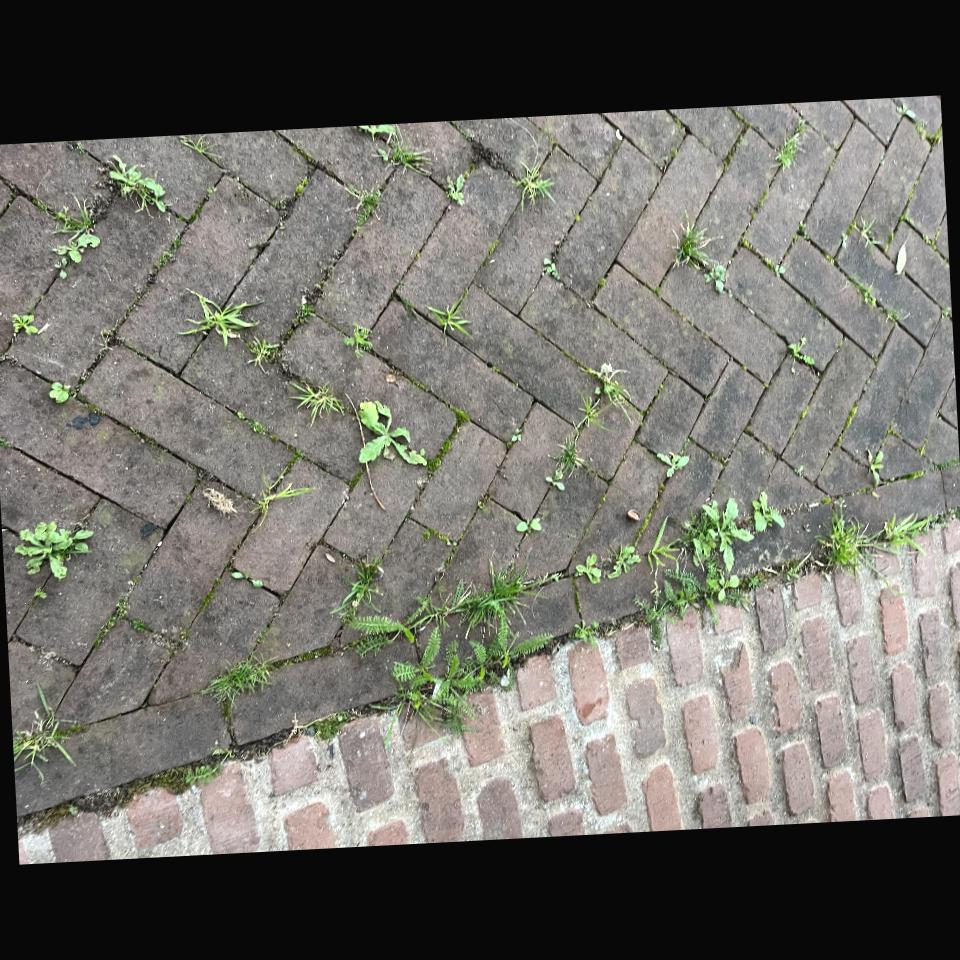weed: (757, 527, 868, 700), (690, 540, 782, 728), (618, 289, 698, 425), (490, 442, 616, 526), (691, 315, 749, 439), (528, 646, 597, 715), (633, 198, 702, 256), (250, 643, 300, 716), (508, 727, 551, 783), (641, 143, 680, 199), (349, 354, 394, 401), (286, 518, 332, 559), (427, 602, 467, 646), (246, 264, 294, 298), (312, 692, 352, 727), (343, 191, 374, 229), (672, 432, 705, 467), (464, 793, 496, 826), (429, 813, 464, 843), (579, 384, 603, 417), (680, 471, 709, 498), (463, 259, 492, 286), (390, 347, 419, 369), (301, 609, 332, 629), (422, 759, 451, 780), (577, 190, 612, 206), (384, 513, 406, 531), (385, 288, 403, 309), (643, 532, 658, 557), (301, 534, 304, 538)
